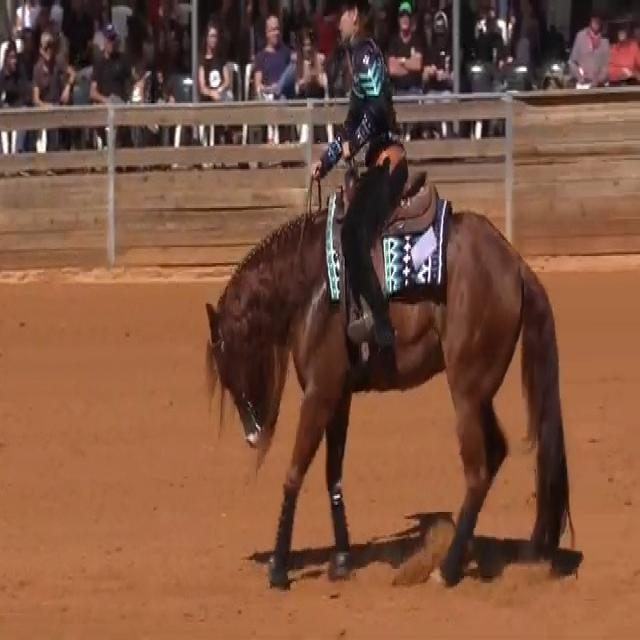horse: (201, 154, 578, 588)
